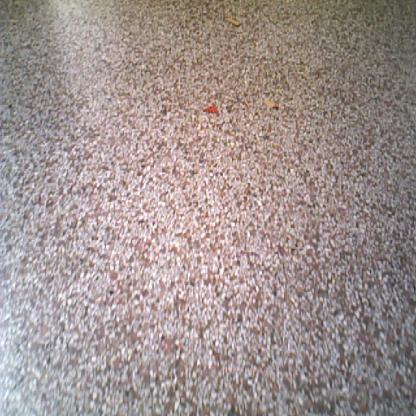dirty: (202, 102, 220, 116), (262, 96, 278, 110), (224, 15, 242, 27)
